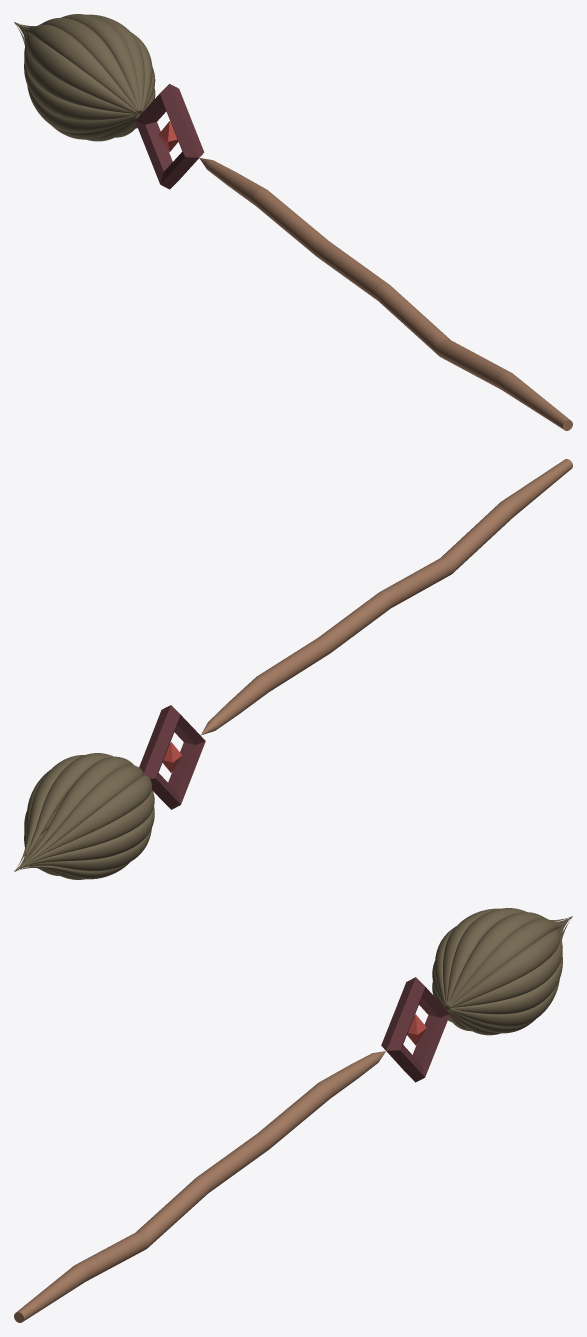
Rendered from Escoba 1.fbx.
3 renders of one model, top to bottom at view 1: azimuth 30°, elevation 25°; view 2: azimuth 150°, elevation 25°; view 3: azimuth 330°, elevation 25°, orthographic.
Parts seen in each view (by area): view 1: Escoba 1; view 2: Escoba 1; view 3: Escoba 1.
Part boxes in pixels (left/top/right/bottom): Escoba 1: left=14, top=14, right=572, bottom=430; Escoba 1: left=14, top=459, right=572, bottom=879; Escoba 1: left=14, top=908, right=572, bottom=1322.
Bounding box in the file's own units: 47.04 × 47.83 × 450.
